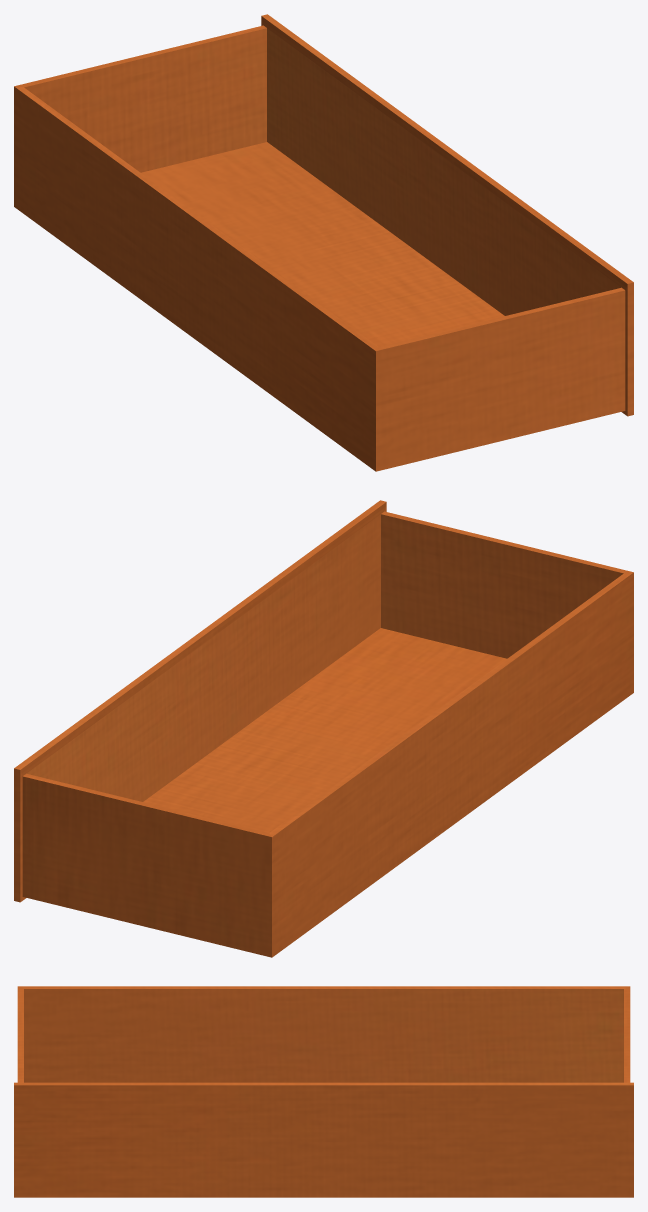
The model's file is drawer.gltf.
3 renders of one model, top to bottom at view 1: azimuth 30°, elevation 25°; view 2: azimuth 150°, elevation 25°; view 3: azimuth 270°, elevation 25°, orthographic. The views are drawn at different scales.
Parts seen in each view (by area): view 1: Plane; view 2: Plane; view 3: Plane.
Part boxes in pixels (x1,y1,x2,y2): Plane: [14, 14, 633, 471]; Plane: [14, 500, 633, 957]; Plane: [14, 986, 633, 1197].
Bounding box in the file's own units: 2.72 × 1.35 × 6.74.
Materials: 1 (1 with a texture image).
